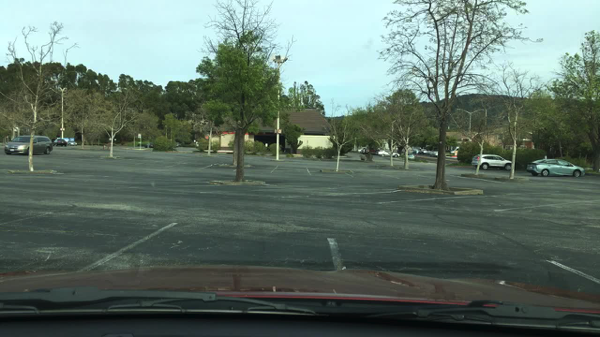car: (526, 158, 587, 179), (4, 135, 53, 156), (470, 154, 515, 171), (376, 148, 399, 159), (52, 139, 68, 147), (403, 152, 416, 161), (363, 147, 374, 154), (370, 148, 379, 155), (357, 146, 366, 153), (444, 150, 453, 157), (430, 151, 440, 157), (68, 140, 76, 147), (418, 148, 427, 154), (424, 149, 432, 155)
traffic sign: (138, 133, 142, 139), (204, 135, 208, 140), (278, 129, 281, 134)
